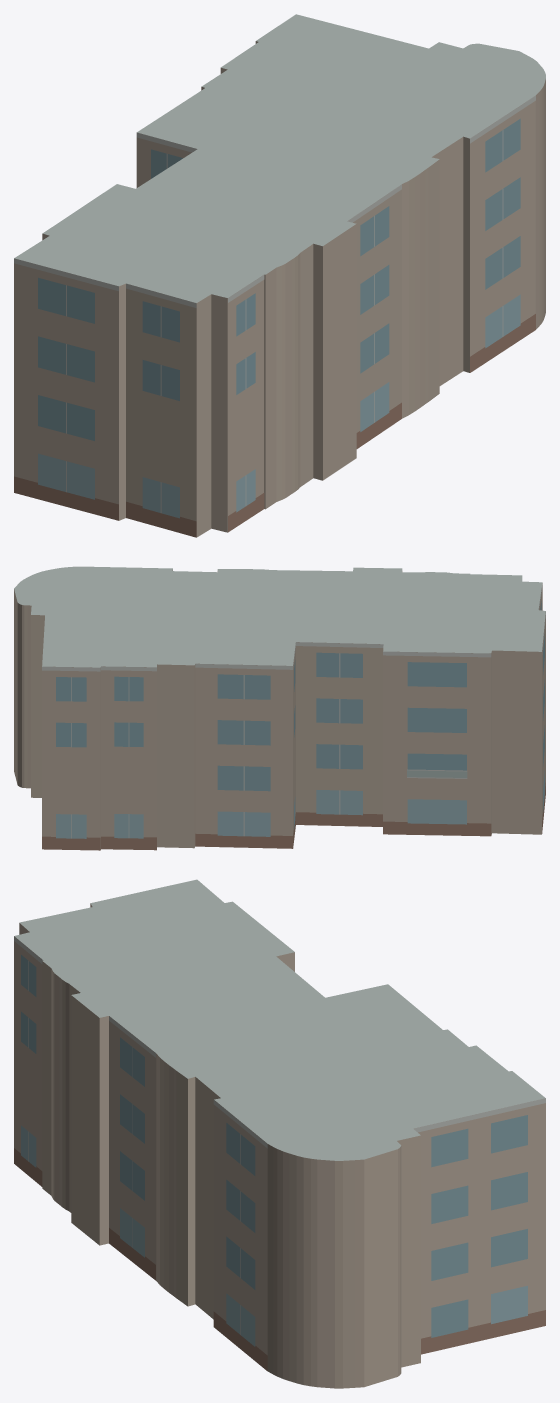
The model's file is survey-upis-32862244.glb.
3 renders of one model, top to bottom at view 1: azimuth 30°, elevation 25°; view 2: azimuth 150°, elevation 25°; view 3: azimuth 270°, elevation 25°, orthographic. The views are drawn at different scales.
Parts seen in each view (by area): view 1: survey-upis-32862244.tmp; view 2: survey-upis-32862244.tmp; view 3: survey-upis-32862244.tmp.
Boxes of the visible parts, bbox=[...] form: survey-upis-32862244.tmp: bbox=[14, 14, 545, 537]; survey-upis-32862244.tmp: bbox=[14, 566, 545, 850]; survey-upis-32862244.tmp: bbox=[14, 879, 545, 1388].
Bounding box in the file's own units: 30.06 × 11.34 × 24.01.
